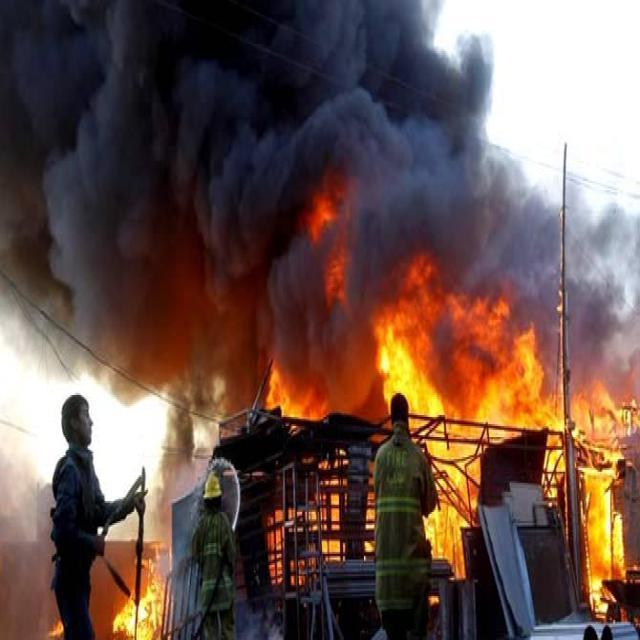Fire: (375, 256, 552, 425), (552, 391, 632, 572), (116, 563, 168, 640), (264, 368, 325, 426), (430, 498, 464, 585), (268, 497, 295, 582), (320, 472, 345, 551), (328, 250, 353, 292), (312, 195, 334, 234)
Smoke: (8, 11, 187, 289)
